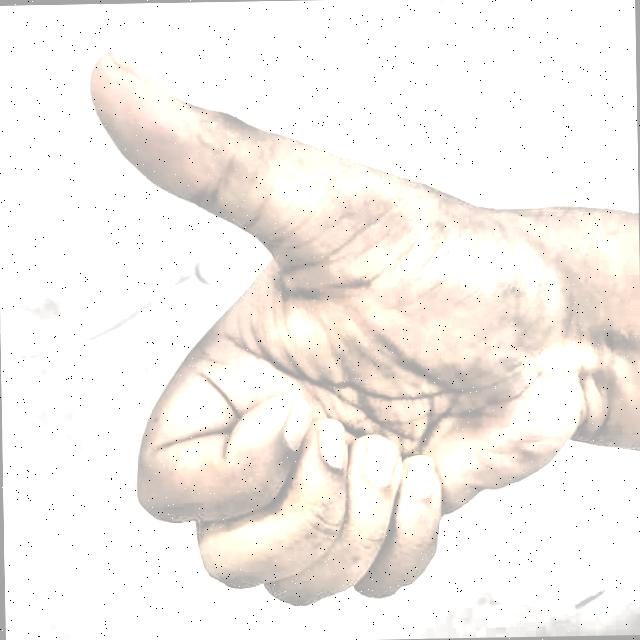Do: (57, 29, 584, 630)
